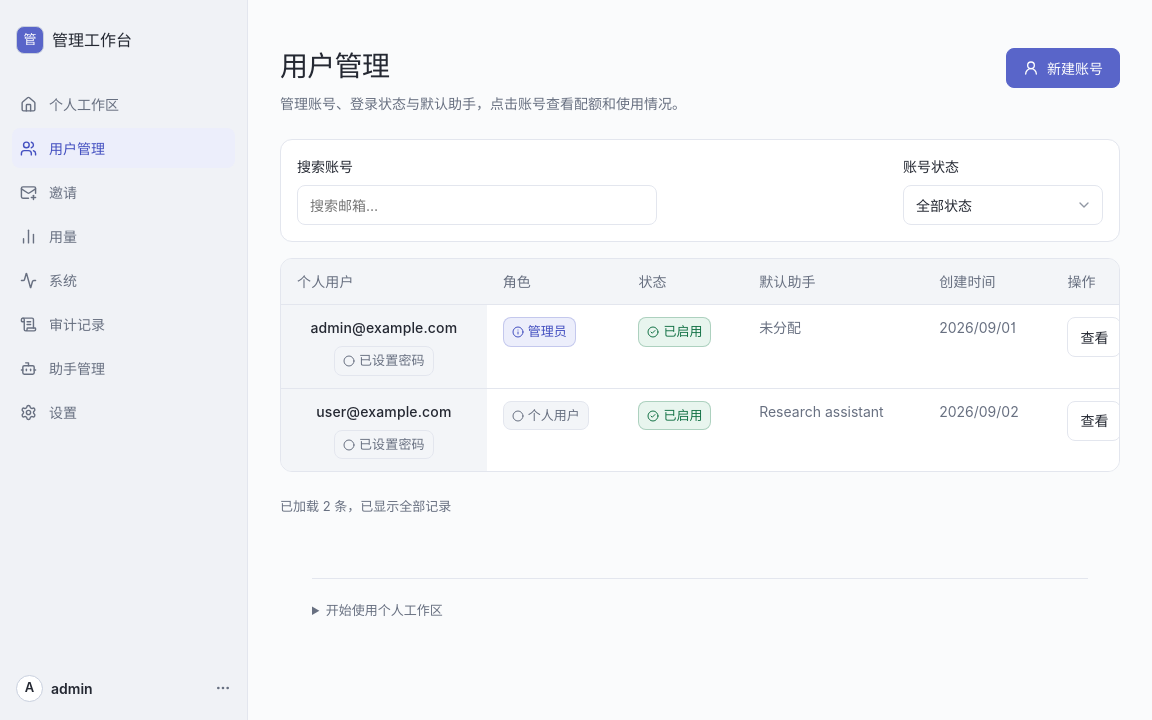
it: admin workbench resilience › clears a status-only account filter from the no-match state
Expected: the link "user@example.com" is shown, [316,401,452,422]
Select "已停用" in the dropdown labelled "账号状态" at (1003, 206), box [903,186,1103,226]
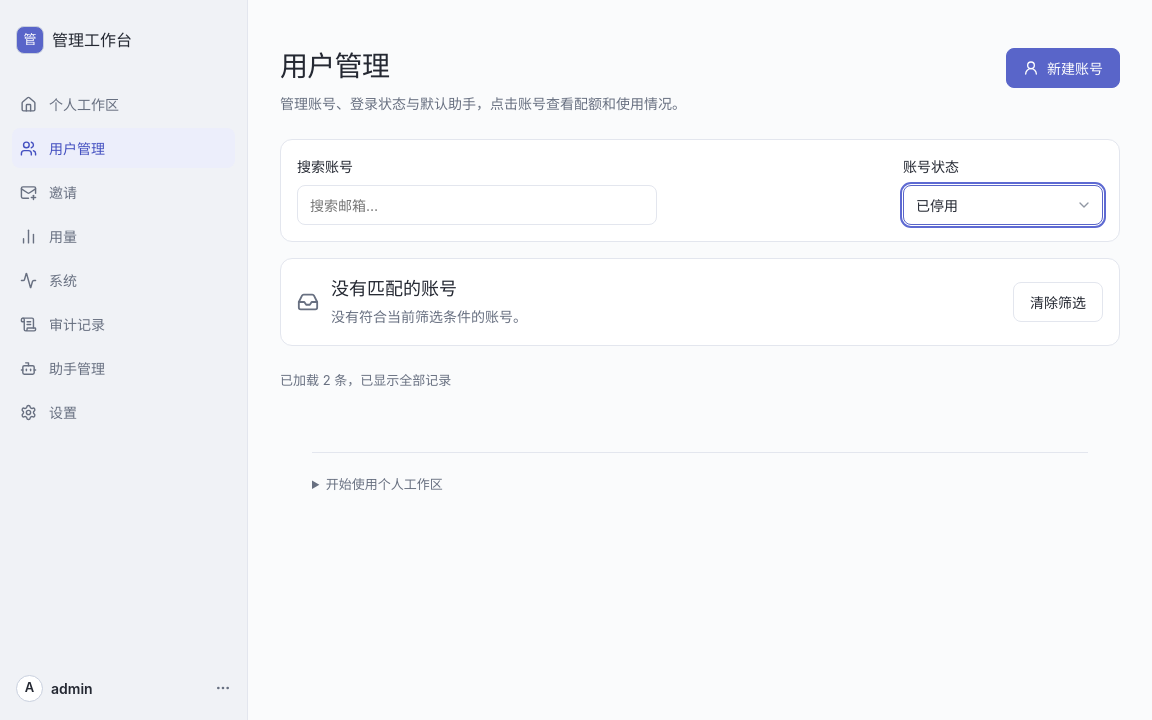
Result: the text "没有匹配的账号" is shown at [331,278,457,299]
Click the button "清除筛选".
click(1058, 302)  # box [1013,282,1103,322]
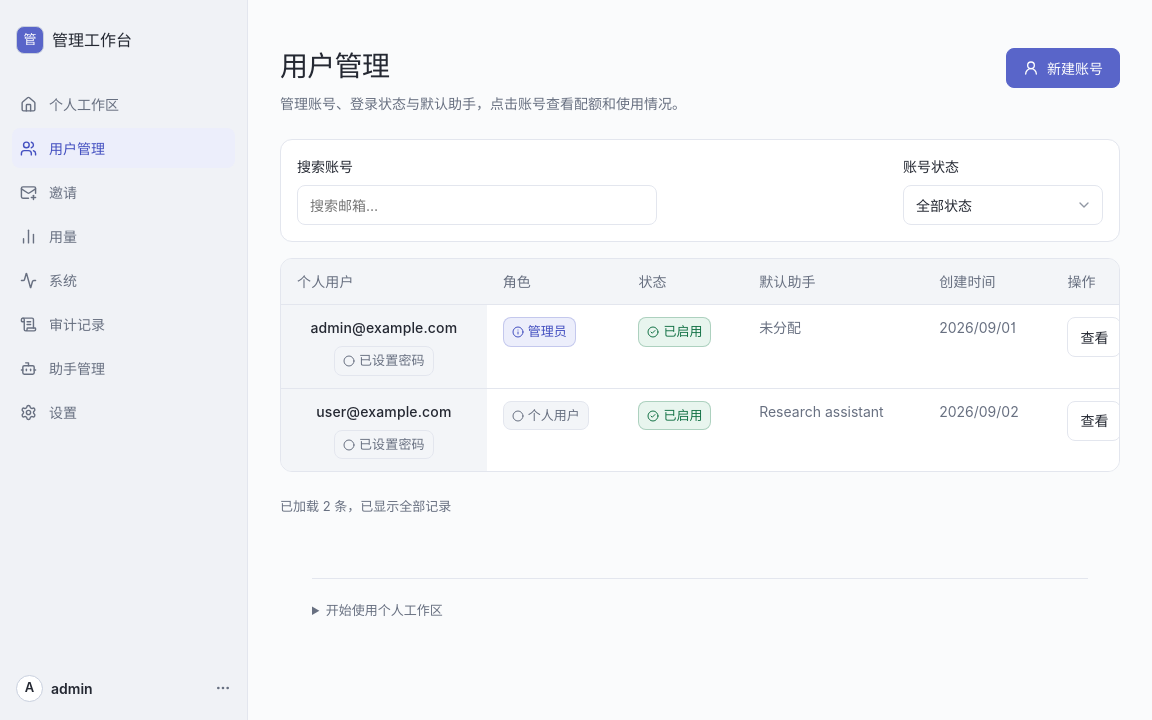
Result: the link "user@example.com" is shown at [316,401,452,422]
